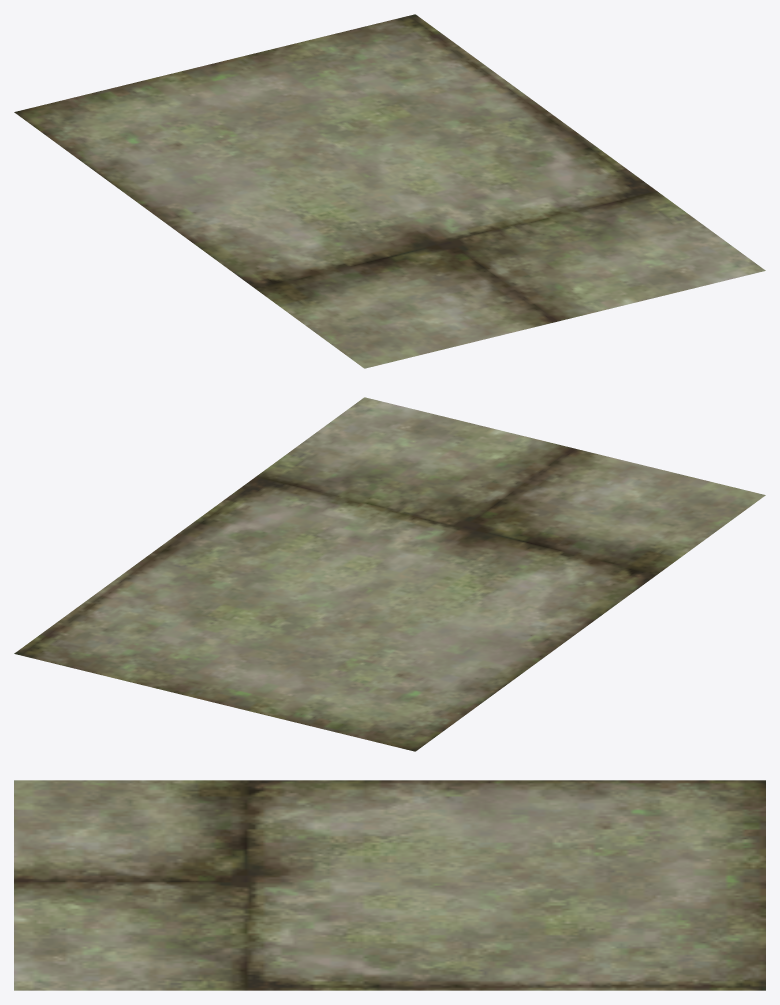
Rendered from OVERHILL_A_01_LINE222.fbx.
3 views of the same model, one above another, from view 1: azimuth 30°, elevation 25°; view 2: azimuth 150°, elevation 25°; view 3: azimuth 270°, elevation 25° (orthographic). The views are drawn at different scales.
Parts seen in each view (by area): view 1: OVERHILL_A_01_LINE222; view 2: OVERHILL_A_01_LINE222; view 3: OVERHILL_A_01_LINE222.
Boxes of the visible parts, left/top/right/bottom form: OVERHILL_A_01_LINE222: left=14, top=14, right=765, bottom=368; OVERHILL_A_01_LINE222: left=14, top=397, right=765, bottom=751; OVERHILL_A_01_LINE222: left=14, top=780, right=765, bottom=990.
Bounding box in the file's own units: 13224 × 0.0212 × 20000.
Materials: 1 (1 with a texture image).
